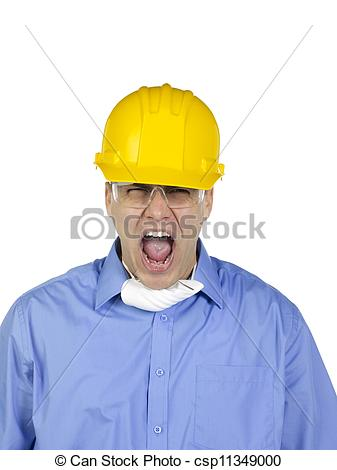Person_wearing_helmet: (77, 74, 240, 213)
